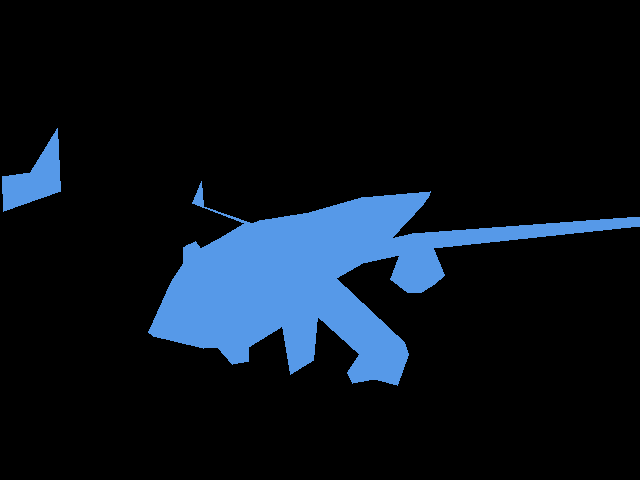Airplane: (148, 181, 640, 386), (2, 128, 61, 212)
